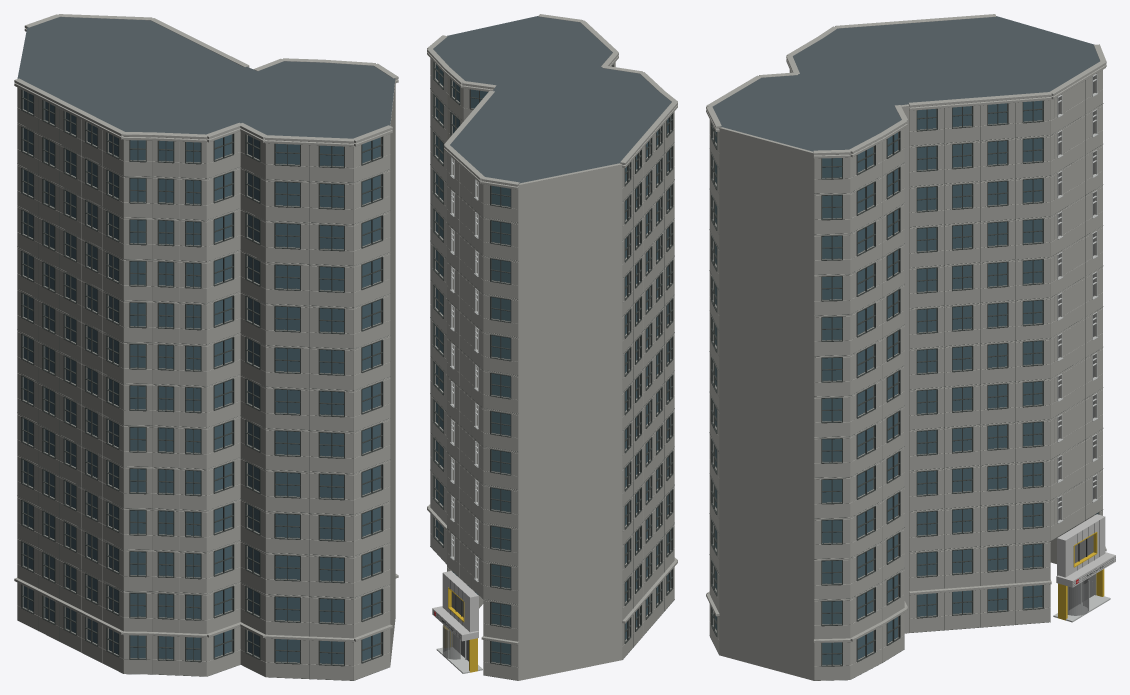
File: pel-exterior-24ba04b6d9ce.glb
3 views of the same model, side by side, from view 1: azimuth 30°, elevation 25°; view 2: azimuth 150°, elevation 25°; view 3: azimuth 270°, elevation 25° (orthographic). The views are drawn at different scales.
Visible parts, largest first — view 1: PEL.001; view 2: PEL.001; view 3: PEL.001.
Boxes of the visible parts, bbox=[...] form: PEL.001: bbox=[14, 14, 398, 680]; PEL.001: bbox=[427, 14, 677, 680]; PEL.001: bbox=[706, 14, 1115, 680].
Bounding box in the file's own units: 24.89 × 44.15 × 30.97.
